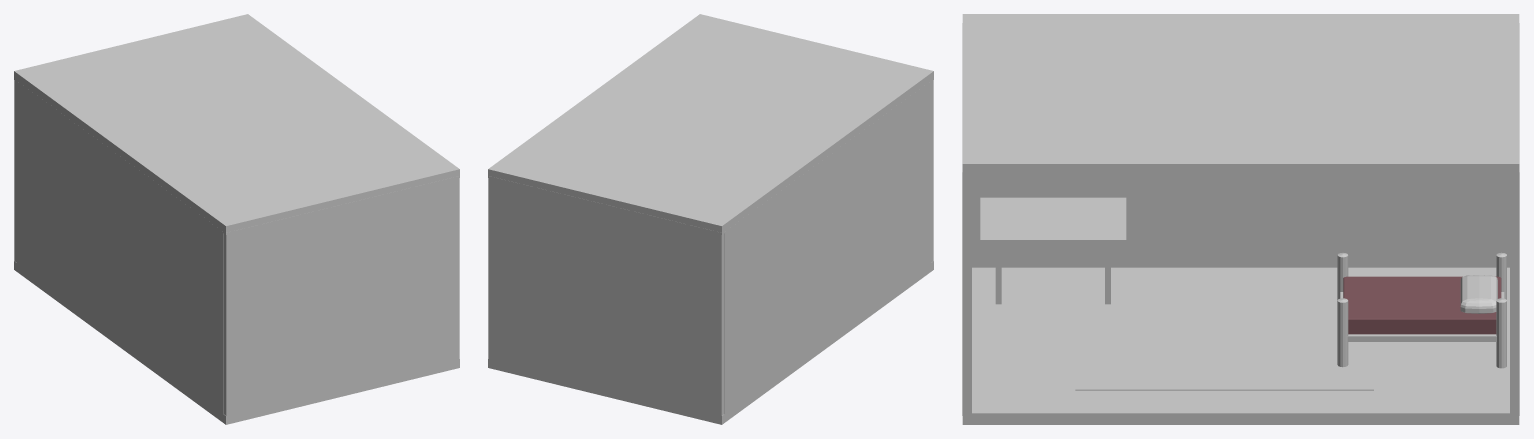
The model's file is roomFurnished15.dae.
The picture shows the model from 3 angles, left to right: view 1: azimuth 30°, elevation 25°; view 2: azimuth 150°, elevation 25°; view 3: azimuth 270°, elevation 25°; orthographic projection. The views are drawn at different scales.
Visible parts, largest first — view 1: room; view 2: room; view 3: room, rug, table, mattress, frame, tapestry, pillow.
Part boxes in pixels (left/top/right/bottom): room: left=14, top=14, right=459, bottom=424; room: left=488, top=14, right=933, bottom=424; room: left=962, top=14, right=1519, bottom=424; rug: left=1075, top=306, right=1373, bottom=390; table: left=980, top=197, right=1126, bottom=304; mattress: left=1343, top=276, right=1501, bottom=334; frame: left=1337, top=252, right=1506, bottom=368; tapestry: left=1156, top=175, right=1374, bottom=186; pillow: left=1460, top=275, right=1497, bottom=313.
Size of the model in its own units: 8.12 by 12.75 by 6.59.
